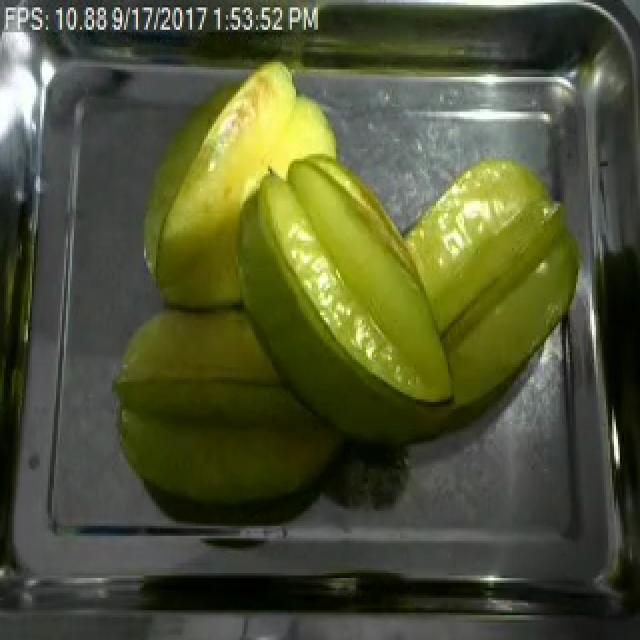fruit: (244, 136, 478, 426), (380, 144, 596, 429), (134, 52, 346, 323), (100, 295, 346, 516)
